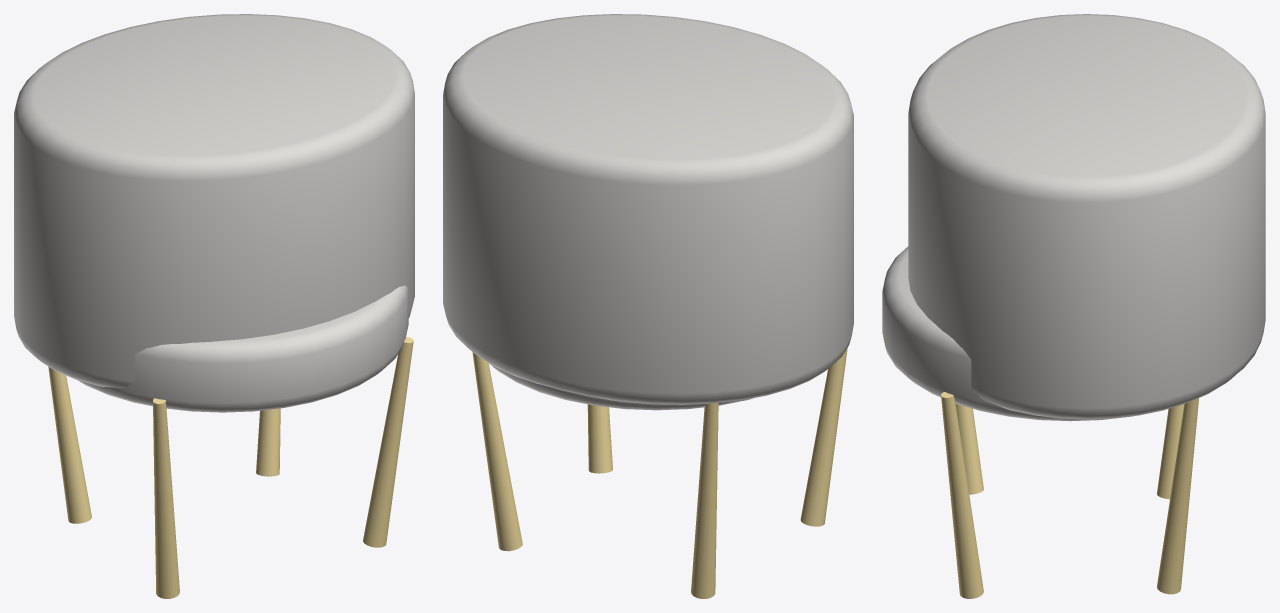
The model's file is client-boucle-tub-chair.glb.
The picture shows the model from 3 angles, left to right: view 1: azimuth 30°, elevation 25°; view 2: azimuth 150°, elevation 25°; view 3: azimuth 270°, elevation 25°; orthographic projection. The views are drawn at different scales.
Visible parts, largest first — view 1: chair_TubBack, chair_SeatCushion, chair_TaperedLeg_1, chair_TaperedLeg_0, chair_TaperedLeg_2, chair_TaperedLeg_3; view 2: chair_TubBack, chair_TaperedLeg_3, chair_TaperedLeg_2, chair_TaperedLeg_0, chair_TaperedLeg_1, chair_SeatCushion; view 3: chair_TubBack, chair_SeatCushion, chair_TaperedLeg_1, chair_TaperedLeg_3, chair_TaperedLeg_0, chair_TaperedLeg_2.
Boxes of the visible parts, left/top/right/bottom form: chair_TubBack: left=14, top=14, right=414, bottom=388; chair_SeatCushion: left=77, top=285, right=408, bottom=412; chair_TaperedLeg_1: left=363, top=337, right=413, bottom=547; chair_TaperedLeg_0: left=153, top=398, right=179, bottom=598; chair_TaperedLeg_2: left=48, top=366, right=91, bottom=523; chair_TaperedLeg_3: left=256, top=408, right=280, bottom=476; chair_TubBack: left=443, top=14, right=853, bottom=404; chair_TaperedLeg_3: left=472, top=352, right=522, bottom=551; chair_TaperedLeg_2: left=691, top=403, right=718, bottom=598; chair_TaperedLeg_0: left=800, top=348, right=847, bottom=526; chair_TaperedLeg_1: left=587, top=404, right=612, bottom=473; chair_SeatCushion: left=489, top=363, right=753, bottom=410; chair_TubBack: left=908, top=14, right=1265, bottom=419; chair_SeatCushion: left=882, top=246, right=1235, bottom=421; chair_TaperedLeg_1: left=941, top=392, right=983, bottom=598; chair_TaperedLeg_3: left=1157, top=398, right=1198, bottom=594; chair_TaperedLeg_0: left=955, top=404, right=983, bottom=494; chair_TaperedLeg_2: left=1157, top=404, right=1184, bottom=499.
Size of the model in its own units: 0.76 by 0.8909 by 0.693.
